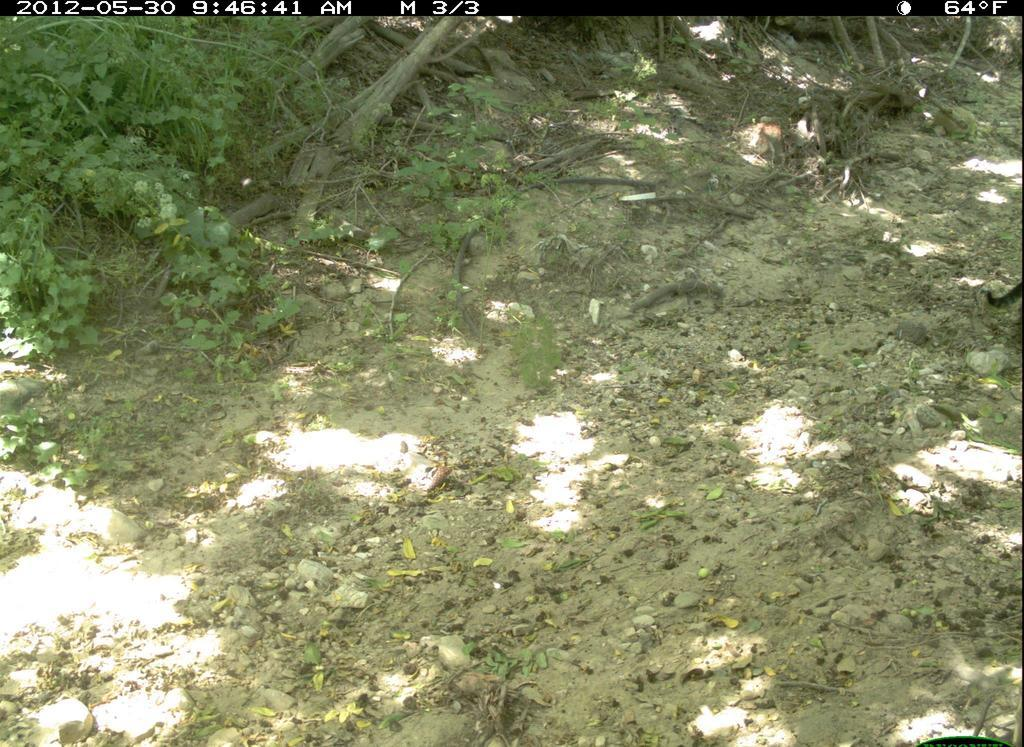cat: (977, 250, 1023, 336)
